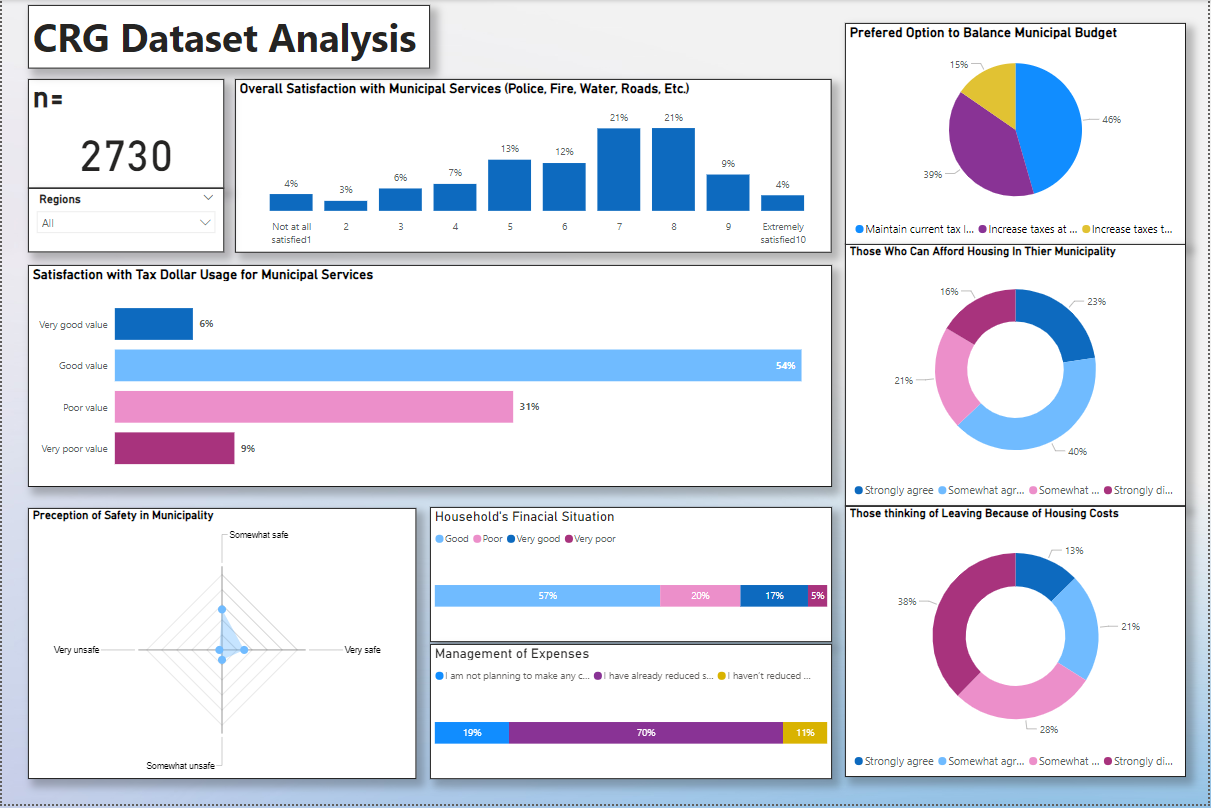

What the dashboard file says about the page in this screenshot:
{"tool":"powerbi","page":{"name":"Municipal Analysis","canvas":[1500,1000],"ordinal":0},"visuals":[{"type":"clusteredColumnChart","title":"Overall Satisfaction with Municipal Services (Police, Fire, Water, Roads, Etc.)","fields":{"Category":["October 2023-Labels.SA3"],"Y":["Sum(October 2023-Values.SA3)"]},"box":[290,98,742,216],"z":0},{"type":"card","title":"n=","fields":{"Values":["CountNonNull(October 2023-Values.SA3)"]},"box":[32,98,244,136],"z":1000},{"type":"pieChart","title":"Prefered Option to Balance Municipal Budget","fields":{"Category":["October 2023-Labels.T2"],"Y":["CountNonNull(October 2023-Values.T2)"]},"box":[1048,28,424,276],"z":2000},{"type":"RadarChart1446119667547","title":"Preception of Safety in Municipality","fields":{"Y":["Sum(October 2023-Values.PS1)"],"Category":["October 2023-Labels.PS1"]},"box":[32.3,631.8,482.6,337.1],"z":3000},{"type":"slicer","fields":{"Values":["October 2023-Labels.SC2"]},"box":[32,234,244,80],"z":4000},{"type":"donutChart","title":"Those Who Can Afford Housing In Thier Municipality","fields":{"Category":["October 2023-Labels.H1_A"],"Y":["CountNonNull(October 2023-Values.H1_A)"]},"box":[1048,304,424,326],"z":5000},{"type":"donutChart","title":"Those thinking of Leaving Because of Housing Costs","fields":{"Category":["October 2023-Labels.H1_B"],"Y":["CountNonNull(October 2023-Values.H1_B)"]},"box":[1048.5,629.4,424.1,337.1],"z":6000},{"type":"clusteredBarChart","title":"Satisfaction with Tax Dollar Usage for Municipal Services","fields":{"Category":["October 2023-Labels.T1"],"Y":["CountNonNull(October 2023-Values.T1)"]},"box":[32,330,1000,276],"z":7000},{"type":"textbox","box":[32.5,6.2,500,78.8],"z":8000},{"type":"hundredPercentStackedBarChart","title":"Household''s Finacial Situation","fields":{"Y":["Sum(October 2023-Values.CL1)"],"Series":["October 2023-Labels.CL1"]},"box":[532.3,630.6,500,167.9],"z":9000},{"type":"hundredPercentStackedBarChart","title":"Management of Expenses","fields":{"Series":["October 2023-Labels.CL2"],"Y":["Sum(October 2023-Values.CL2)"]},"box":[532.3,801,500,167.9],"z":10000}]}

Visuals, with their boxes in screenshot pixels (x1, y1, x2, y2), scaled from the page's 1500x1000 canvas onto the 1211x808 screenshot:
"Overall Satisfaction with Municipal Services (Police, Fire, Water, Roads, Etc.)" clusteredColumnChart: rect(234, 79, 833, 254)
"n=" card: rect(26, 79, 223, 189)
"Prefered Option to Balance Municipal Budget" pieChart: rect(846, 23, 1188, 246)
"Preception of Safety in Municipality" RadarChart1446119667547: rect(26, 510, 416, 783)
slicer - October 2023-Labels.SC2: rect(26, 189, 223, 254)
"Those Who Can Afford Housing In Thier Municipality" donutChart: rect(846, 246, 1188, 509)
"Those thinking of Leaving Because of Housing Costs" donutChart: rect(846, 509, 1189, 781)
"Satisfaction with Tax Dollar Usage for Municipal Services" clusteredBarChart: rect(26, 267, 833, 490)
textbox: rect(26, 5, 430, 69)
"Household''s Finacial Situation" hundredPercentStackedBarChart: rect(430, 510, 833, 645)
"Management of Expenses" hundredPercentStackedBarChart: rect(430, 647, 833, 783)
